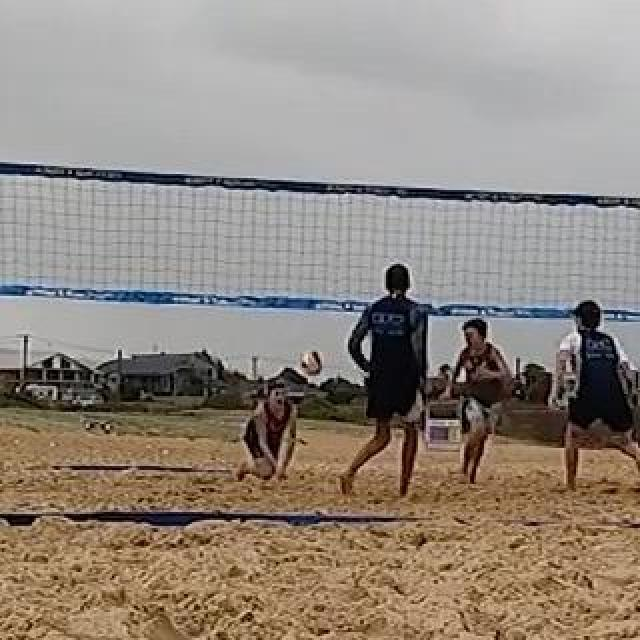volleyball: (300, 351, 324, 375)
